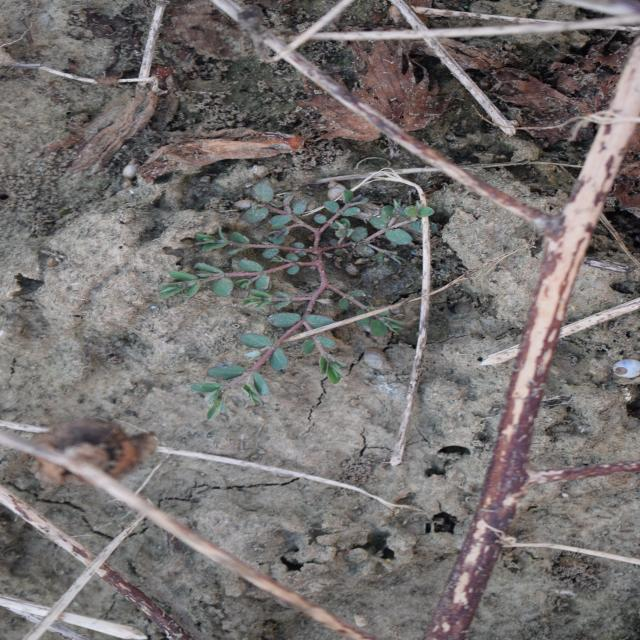SpottedSpurge: (153, 180, 438, 424)
